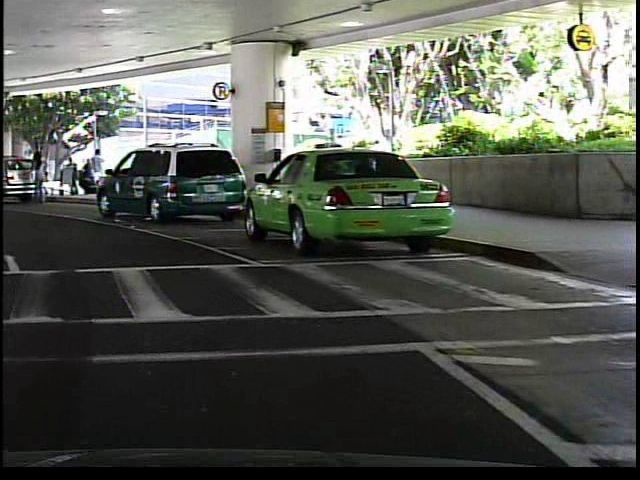person: (28, 152, 46, 204)
